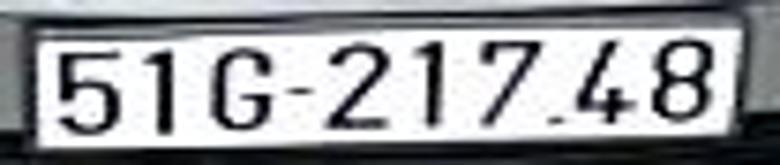-: (286, 86, 312, 95)
.: (546, 116, 565, 125)
1: (143, 49, 173, 138), (411, 39, 441, 125)
2: (325, 42, 388, 129)
4: (574, 37, 636, 127)
5: (59, 52, 120, 139)
7: (478, 35, 542, 127)
8: (654, 36, 710, 125)
G: (212, 47, 271, 130)
